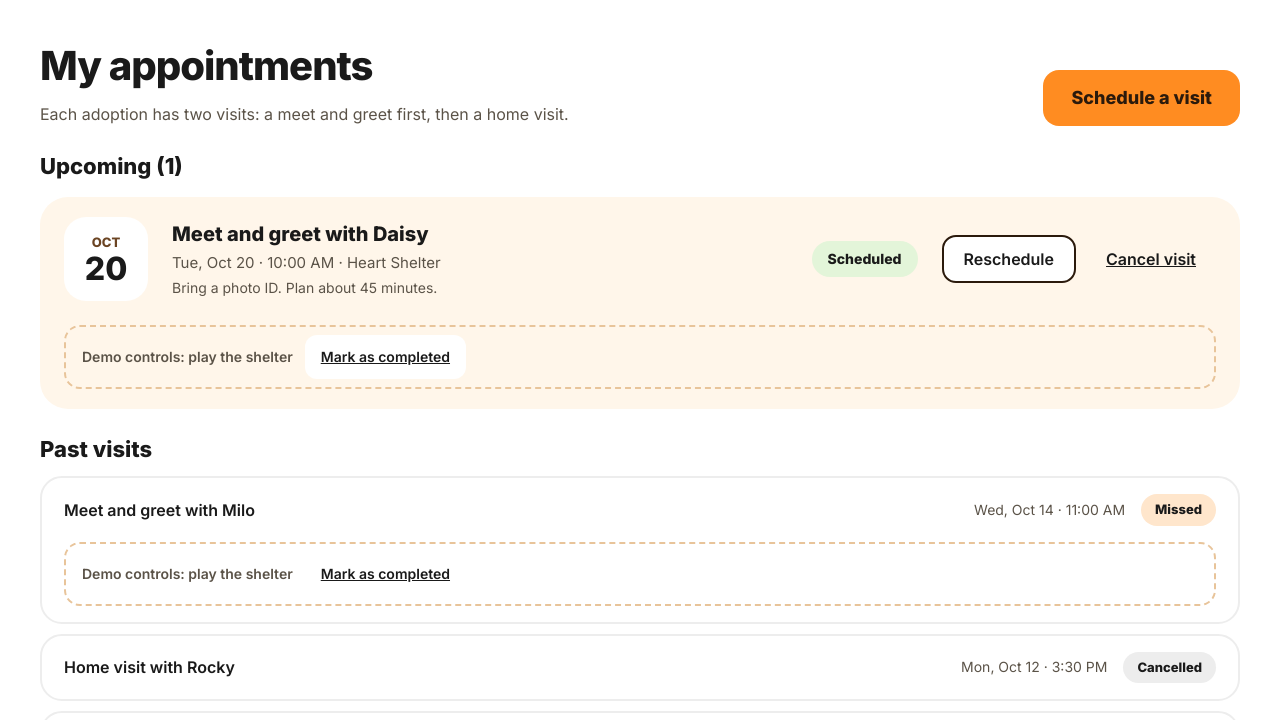
Scenario: Appointments › shows the error when cancelling fails
Click the button with aria-label "Cancel Meet and greet with Daisy": (1151, 259) [1086,235,1216,283]
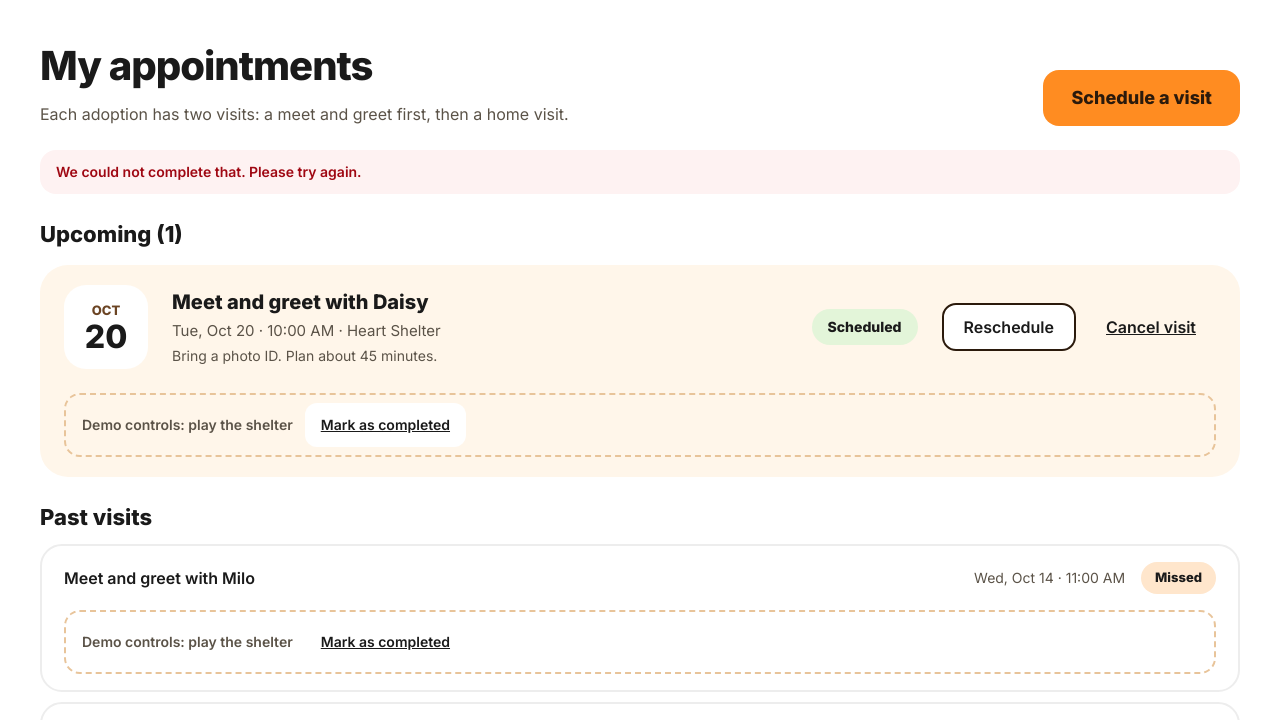
Now the message shows "We could not complete that", box [56,163,362,180]
